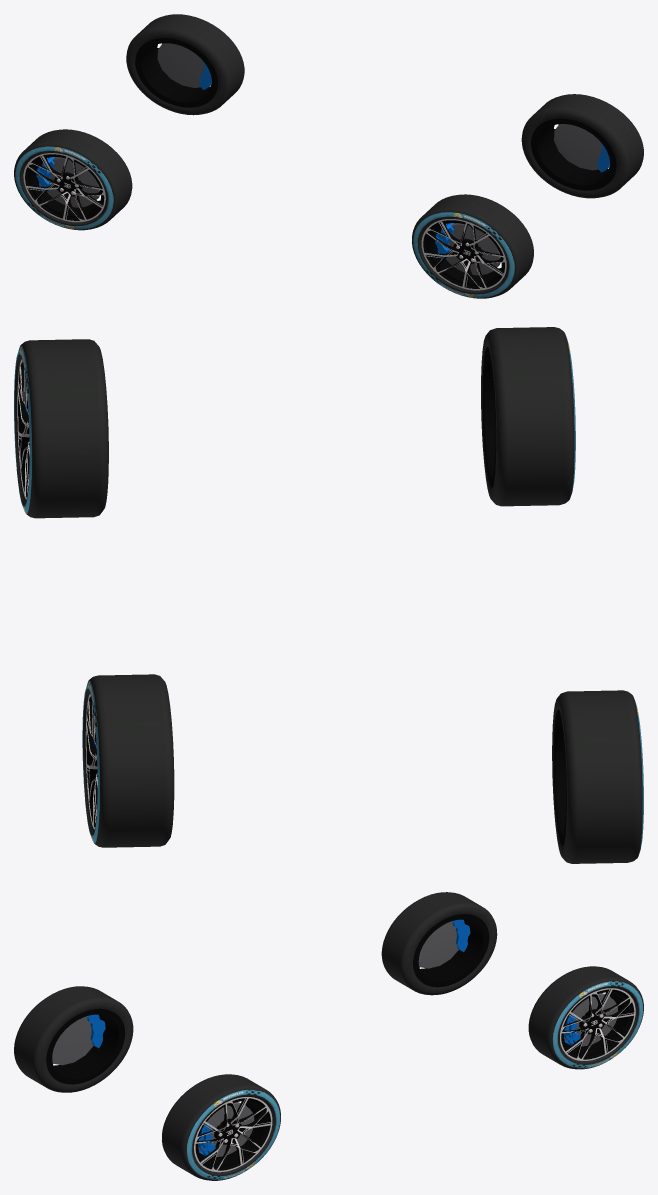
Rendered from CarBadge.obj.
3 views of the same model, one above another, from view 1: azimuth 30°, elevation 25°; view 2: azimuth 150°, elevation 25°; view 3: azimuth 270°, elevation 25° (orthographic). The views are drawn at different scales.
Parts seen in each view (by area): view 1: Tire; view 2: Tire; view 3: Tire.
Part boxes in pixels (x1,y1,x2,y2): Tire: (14,14,643,298); Tire: (14,327,643,863); Tire: (14,892,643,1180).
Bounding box in the file's own units: 0.3967 × 0.0795 × 0.44.
